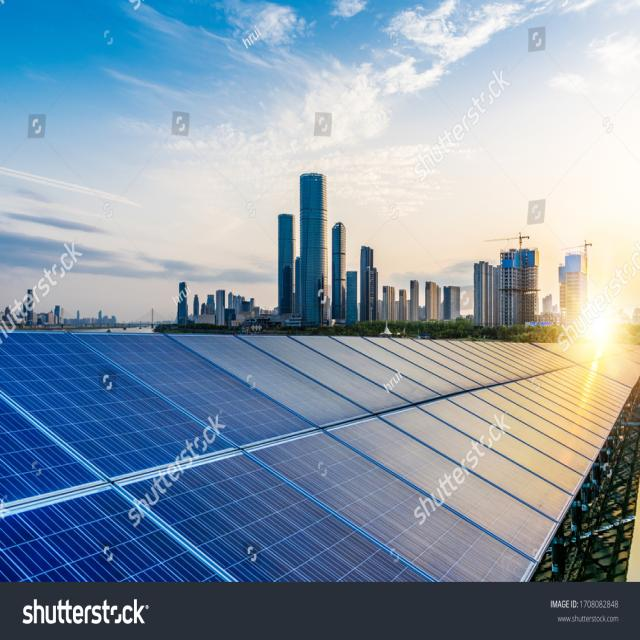clean-solar-panel: (1, 332, 640, 581)
